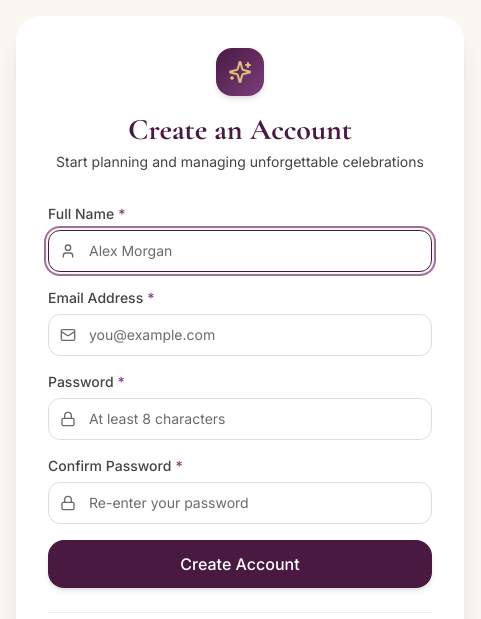
RegisterPage Component › validates empty name input
Type "alex@example.com" into the field labelled "Email Address*" at (240, 335), box [48, 314, 432, 356]
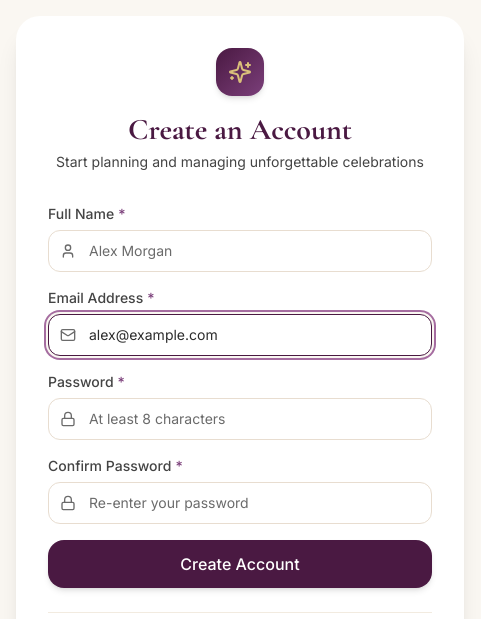
Type "SecurePassword123!" into the password field labelled "Password*" at (240, 419), box [48, 398, 432, 440]
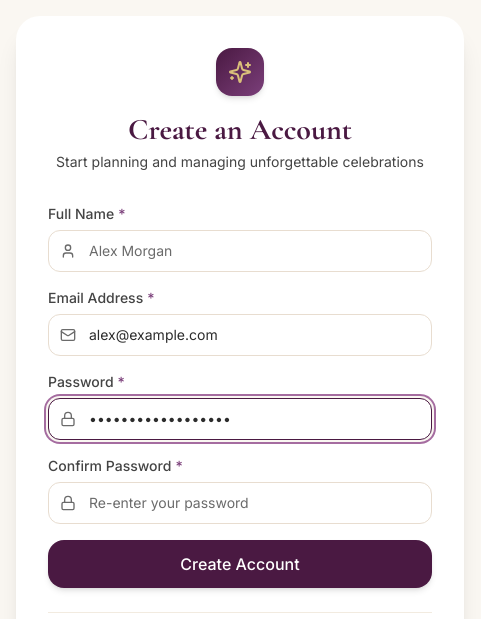
Type "SecurePassword123!" into the password field labelled "Confirm Password*" at (240, 503), box [48, 482, 432, 524]
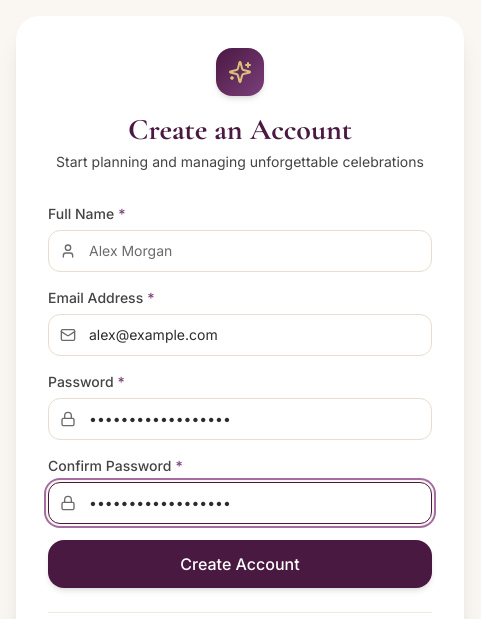
Submit the form "Create Account", box [48, 204, 432, 588]
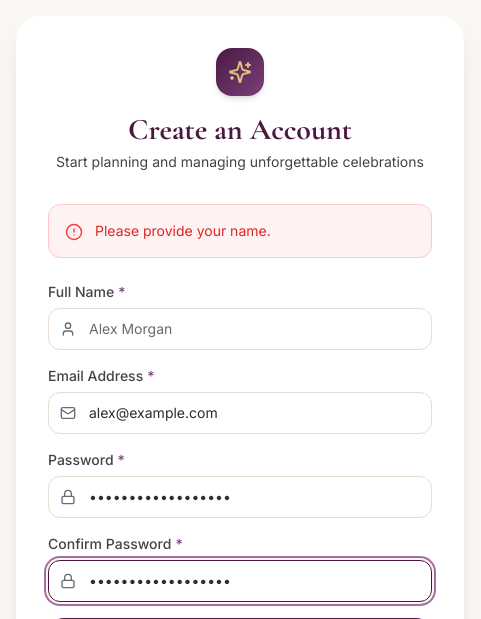
Result: the message shows "Please provide your name" at [95, 222, 271, 239]
